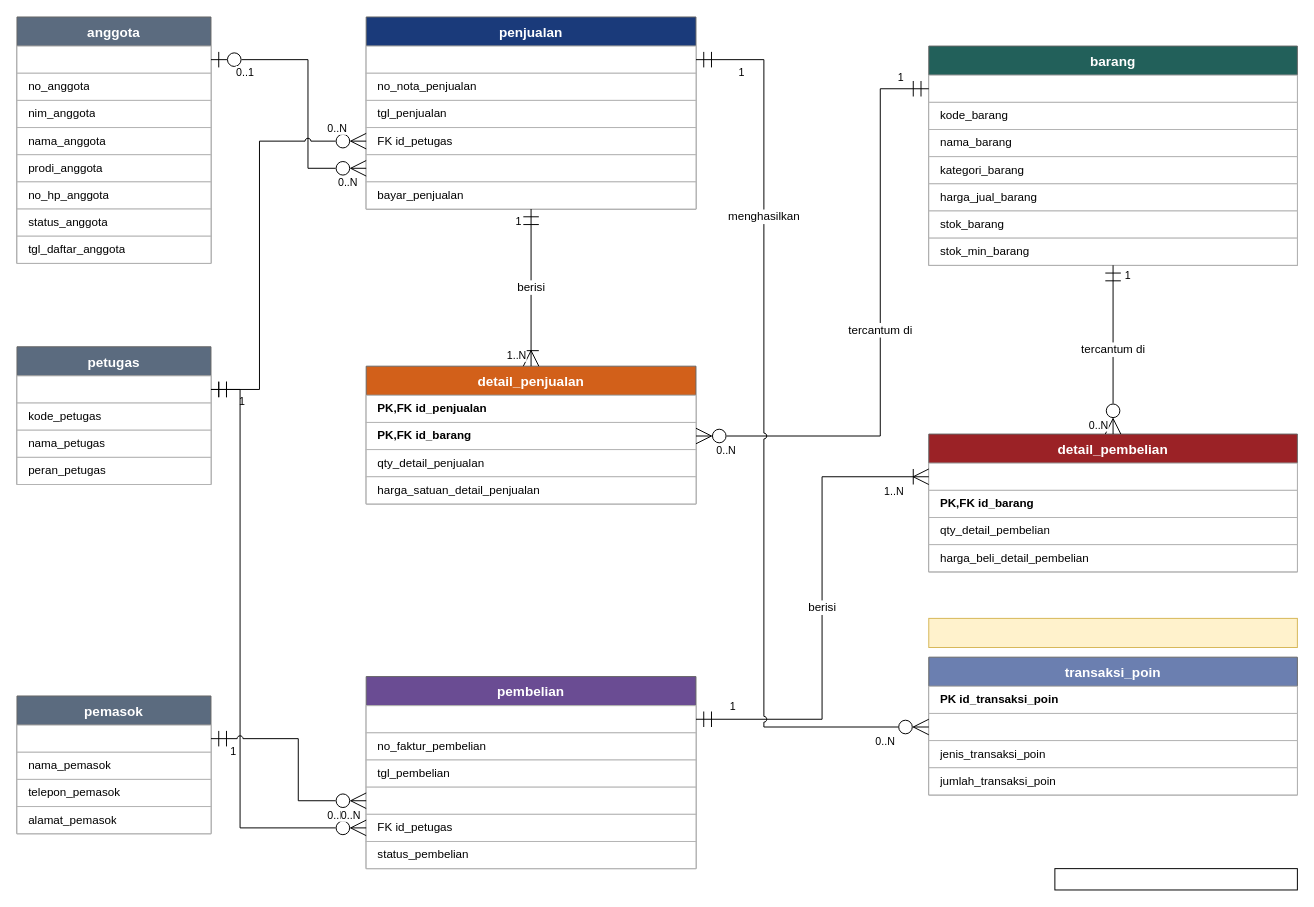
Some shapes in this 1314 by 907 pixel diagram are drawn without their labels. The shapes that lost their labels are listed below. From the top down, each one's box as (x1, y1, x2, y2) in pixels, then its label:
(16, 45, 211, 73): PK id_anggota
(365, 45, 696, 73): PK id_penjualan
(928, 74, 1297, 102): PK id_barang
(365, 154, 696, 182): FK id_anggota
(16, 375, 211, 403): PK id_petugas
(928, 462, 1297, 490): PK,FK id_pembelian
(928, 617, 1297, 647): Hasil Latihan E.1
(16, 724, 211, 752): PK id_pemasok
(365, 705, 696, 733): PK id_pembelian
(928, 712, 1297, 741): FK id_penjualan
(365, 786, 696, 814): FK id_pemasok
(1054, 868, 1297, 890): Wahyu Fadlu Rohman-25430022-Kelas A
